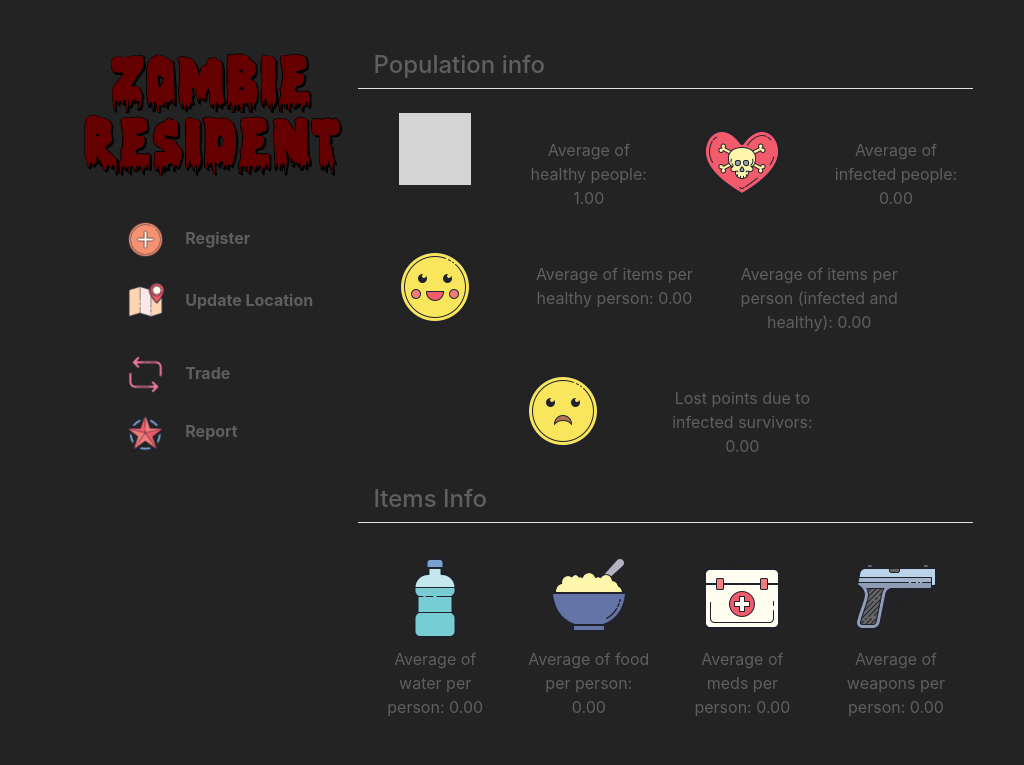
Scenario: Check Navigation › Checks Trade URL and if all components are loading
Click the link "Trade".
click(208, 373)  # box [106,362,245,384]
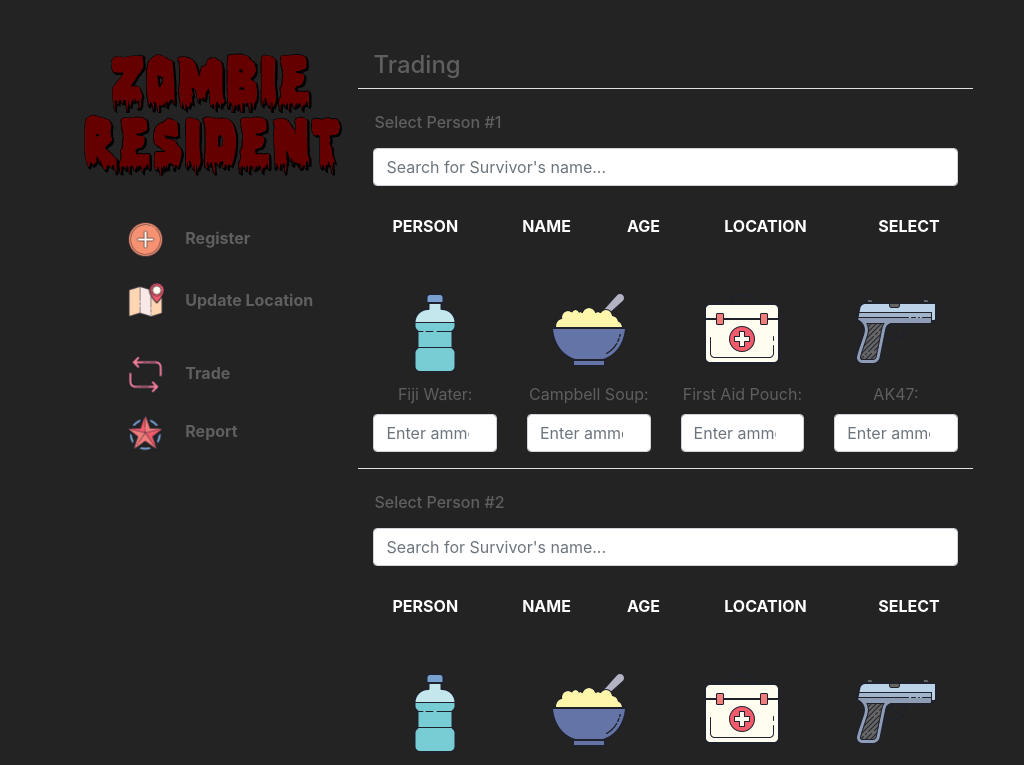
Check: the heading "Trading" is shown, box [373,50,461,79]
Check: the 1st column heading "SELECT" is shown, box [845,202,973,250]
Check: the text "Fiji Water:" below "Select Person #1" is shown, box [398,382,473,406]
